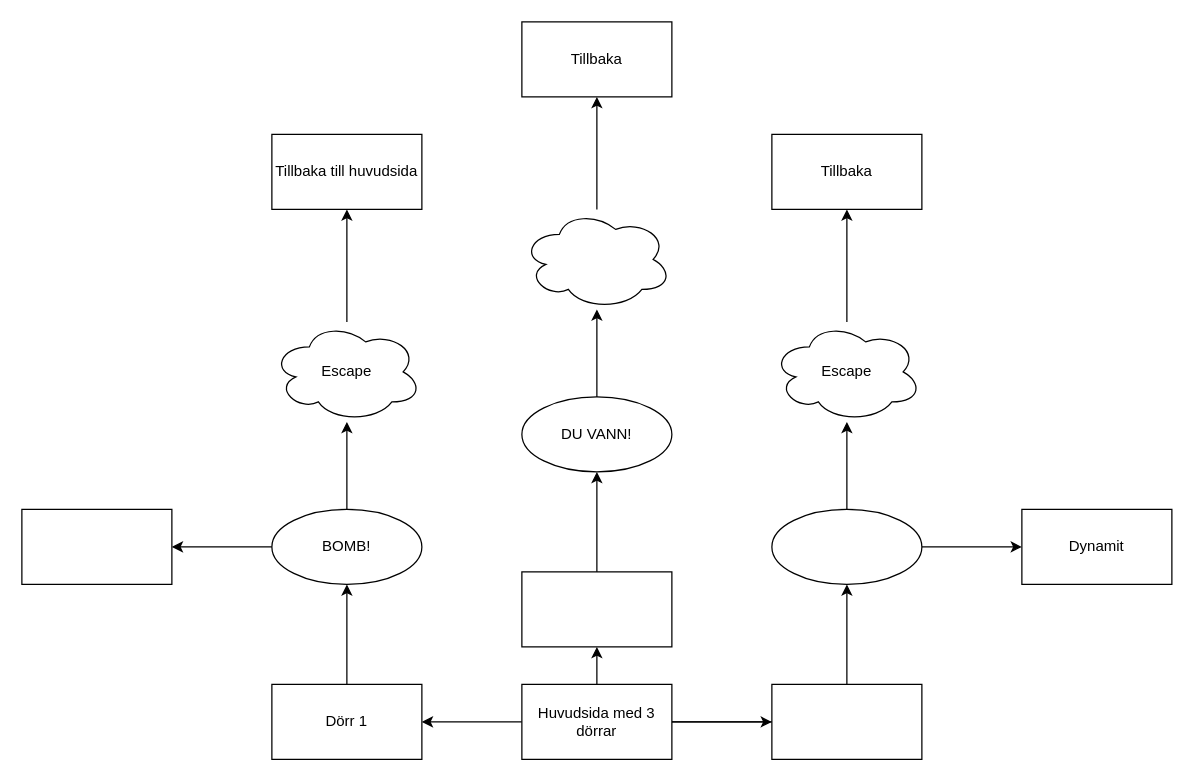
The diagram is 1194 pixels wide and 781 high, and some of its shapes have lost their labels. Here are the shapes that lost their labels. From the top down, the centre of each, then its label:
At pixel 596 258: "Konfetti- tårta!".
At pixel 96 546: "Kanonkula".
At pixel 846 546: "EXPLOTION".
At pixel 596 609: "Dörr 2".
At pixel 846 721: "Dörr 3".
